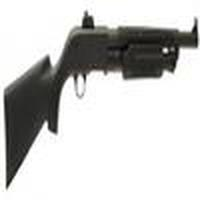gun: (6, 27, 200, 186)
